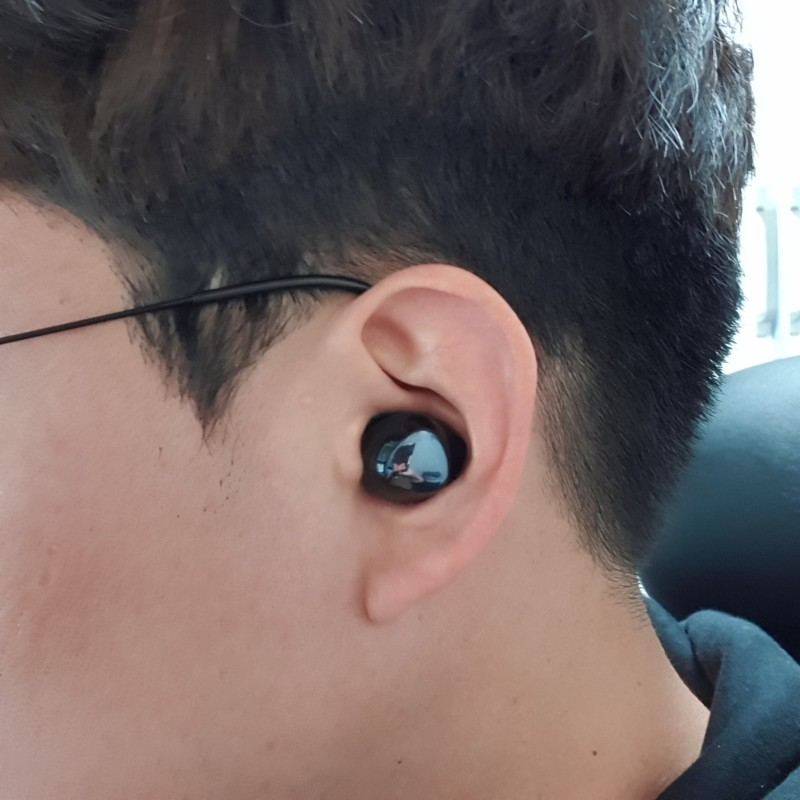earphone: (334, 262, 538, 624)
